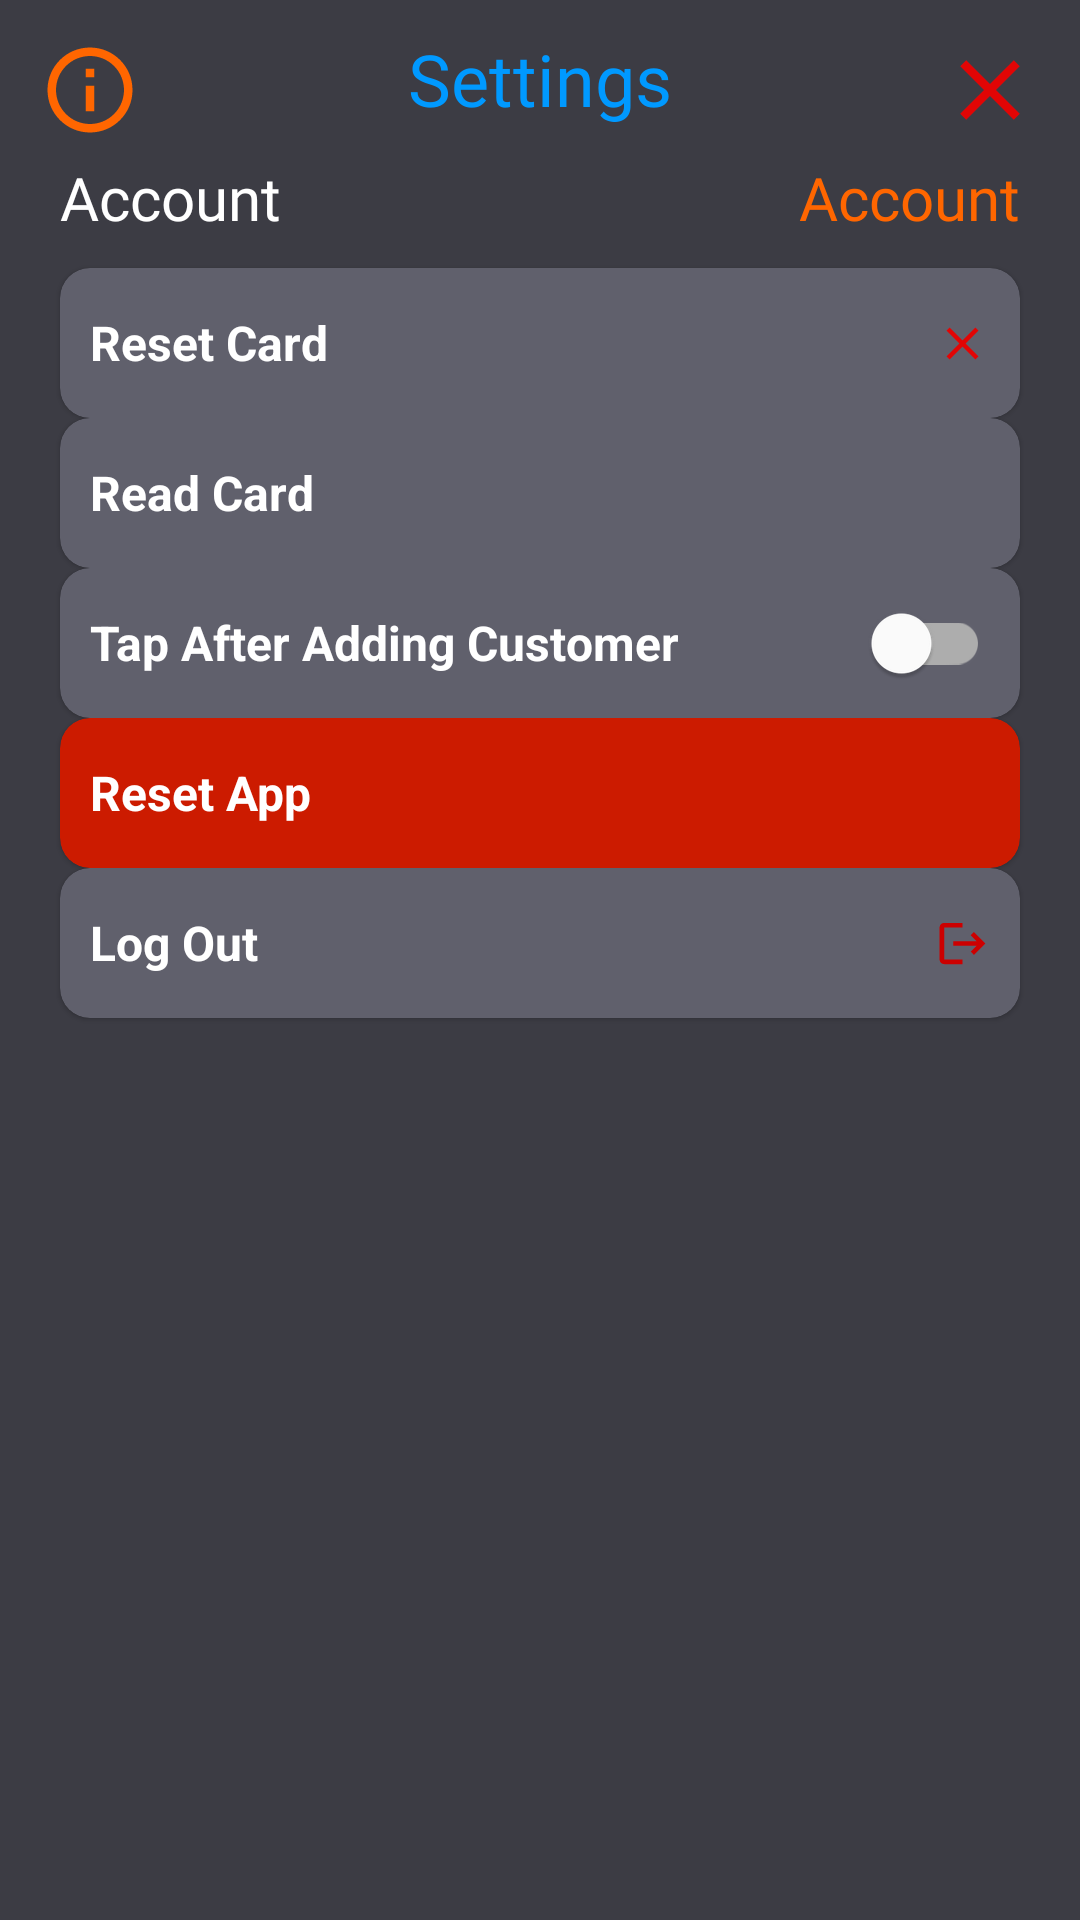

Icons on this 1080x1920 Android screen, each with the point to tap as [x,y]:
info: [90,90]
